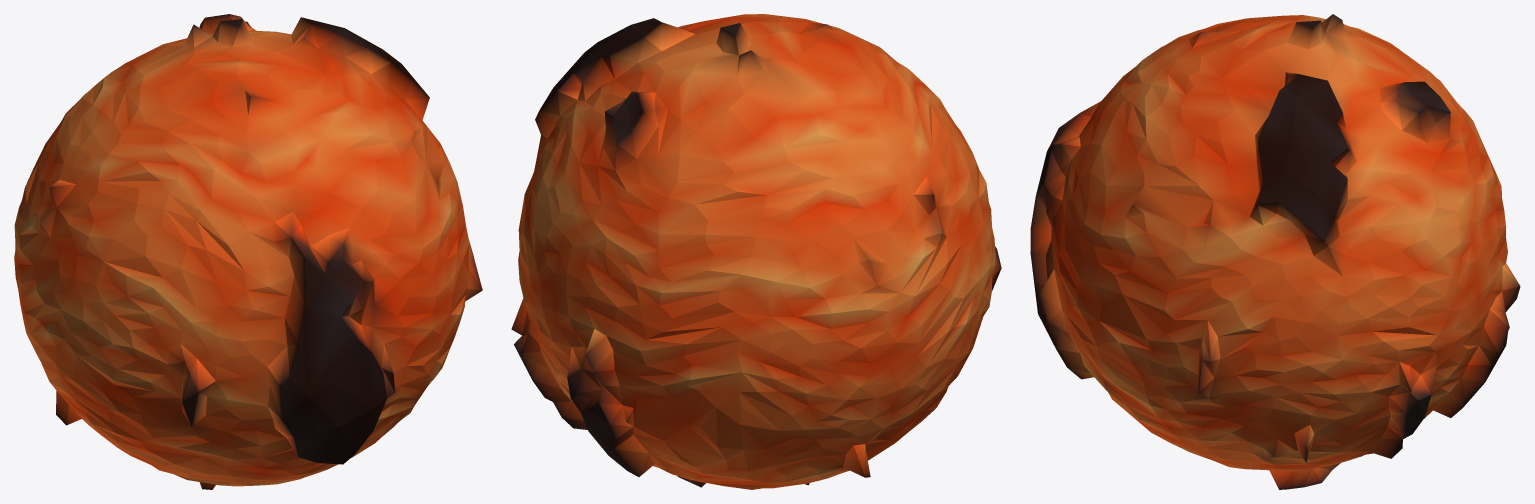
The model's file is barren_26.fbx.
The picture shows the model from 3 angles, left to right: view 1: azimuth 30°, elevation 25°; view 2: azimuth 150°, elevation 25°; view 3: azimuth 270°, elevation 25°; orthographic projection. The views are drawn at different scales.
Visible parts, largest first — view 1: filecache1; view 2: filecache1; view 3: filecache1.
Boxes of the visible parts, bbox=[...] form: filecache1: bbox=[14, 14, 482, 489]; filecache1: bbox=[511, 14, 1001, 489]; filecache1: bbox=[1030, 14, 1520, 489].
Bounding box in the file's own units: 2.04 × 2.16 × 2.17.
